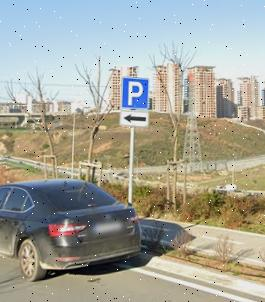park: (124, 79, 146, 109)
